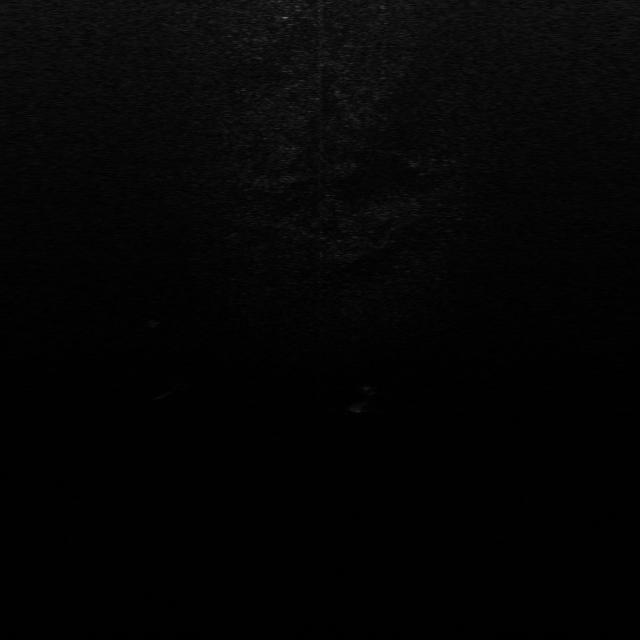ball: (166, 372, 196, 393)
circle cage: (143, 310, 167, 327)
tyre: (351, 384, 377, 413)
